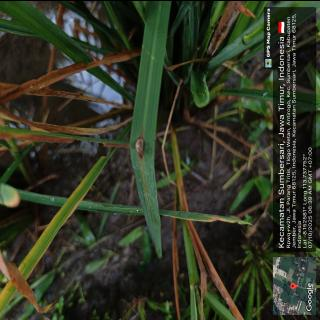Blast: (132, 134, 145, 159)
